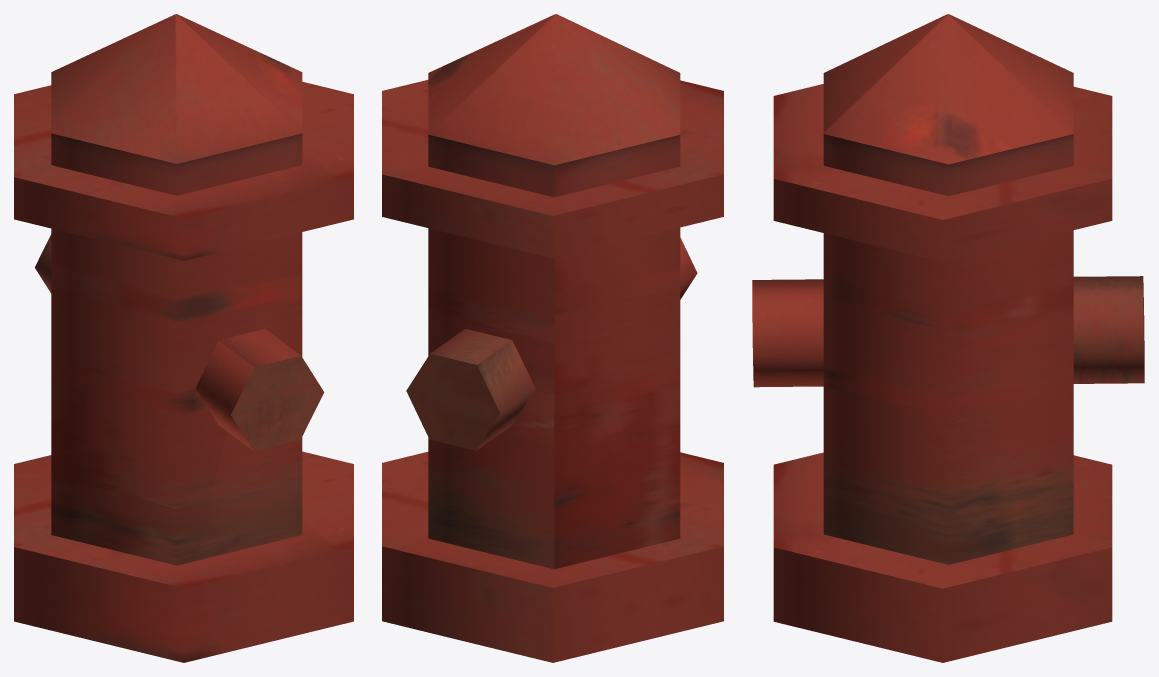
File: hydrant.FBX
3 views of the same model, side by side, from view 1: azimuth 30°, elevation 25°; view 2: azimuth 150°, elevation 25°; view 3: azimuth 270°, elevation 25° (orthographic).
Parts seen in each view (by area): view 1: Cylinder001; view 2: Cylinder001; view 3: Cylinder001.
Part boxes in pixels (x1,y1,x2,y2): Cylinder001: (14, 14, 353, 662); Cylinder001: (382, 14, 723, 662); Cylinder001: (752, 14, 1144, 662).
Bounding box in the file's own units: 58.17 × 92.4 × 58.36.
